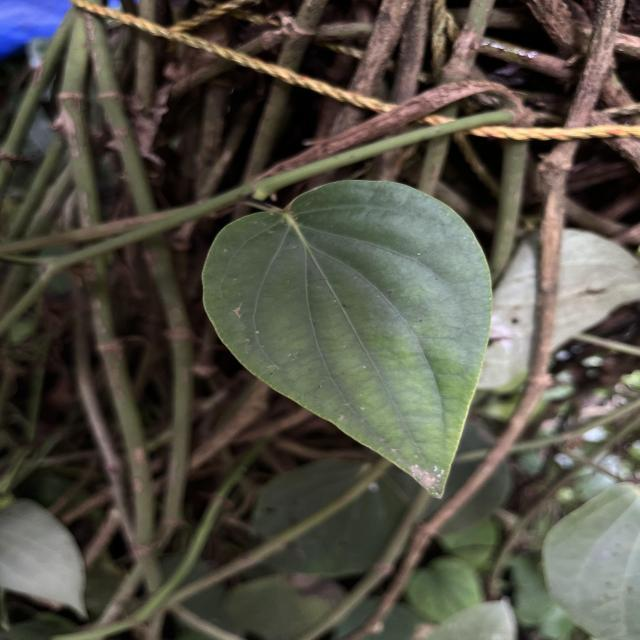Piper nigrum: (198, 176, 496, 504)
